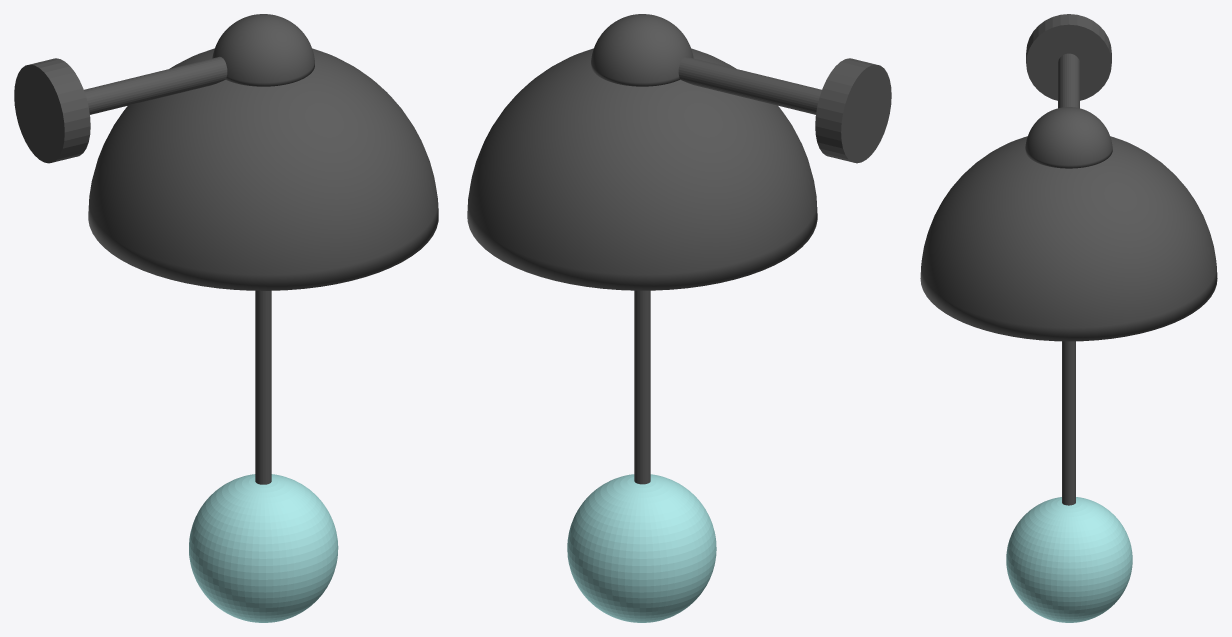
Rendered from hangight.fbx.
3 renders of one model, left to right at view 1: azimuth 30°, elevation 25°; view 2: azimuth 150°, elevation 25°; view 3: azimuth 270°, elevation 25°, orthographic. The views are drawn at different scales.
Visible parts, largest first — view 1: Sphere, Sphere.003, Cylinder.002, Sphere.001, Cylinder.001, Cylinder; view 2: Sphere, Sphere.003, Cylinder.002, Sphere.001, Cylinder.001, Cylinder; view 3: Sphere, Sphere.003, Cylinder.002, Sphere.001, Cylinder, Cylinder.001.
Part boxes in pixels (x1,y1,x2,y2): Sphere: (88,48,438,290); Sphere.003: (189,474,338,622); Cylinder.002: (14,58,90,163); Sphere.001: (212,14,314,86); Cylinder.001: (84,56,227,114); Cylinder: (255,290,271,484); Sphere: (467,48,817,290); Sphere.003: (567,474,716,622); Cylinder.002: (815,58,891,163); Sphere.001: (591,14,693,86); Cylinder.001: (678,56,821,114); Cylinder: (634,290,650,484); Sphere: (920,136,1217,341); Sphere.003: (1006,497,1132,622); Cylinder.002: (1026,14,1111,100); Sphere.001: (1025,107,1112,168); Cylinder: (1062,341,1075,505); Cylinder.001: (1058,53,1079,108).
Size of the model in its own units: 1.36 by 2.09 by 1.1.
